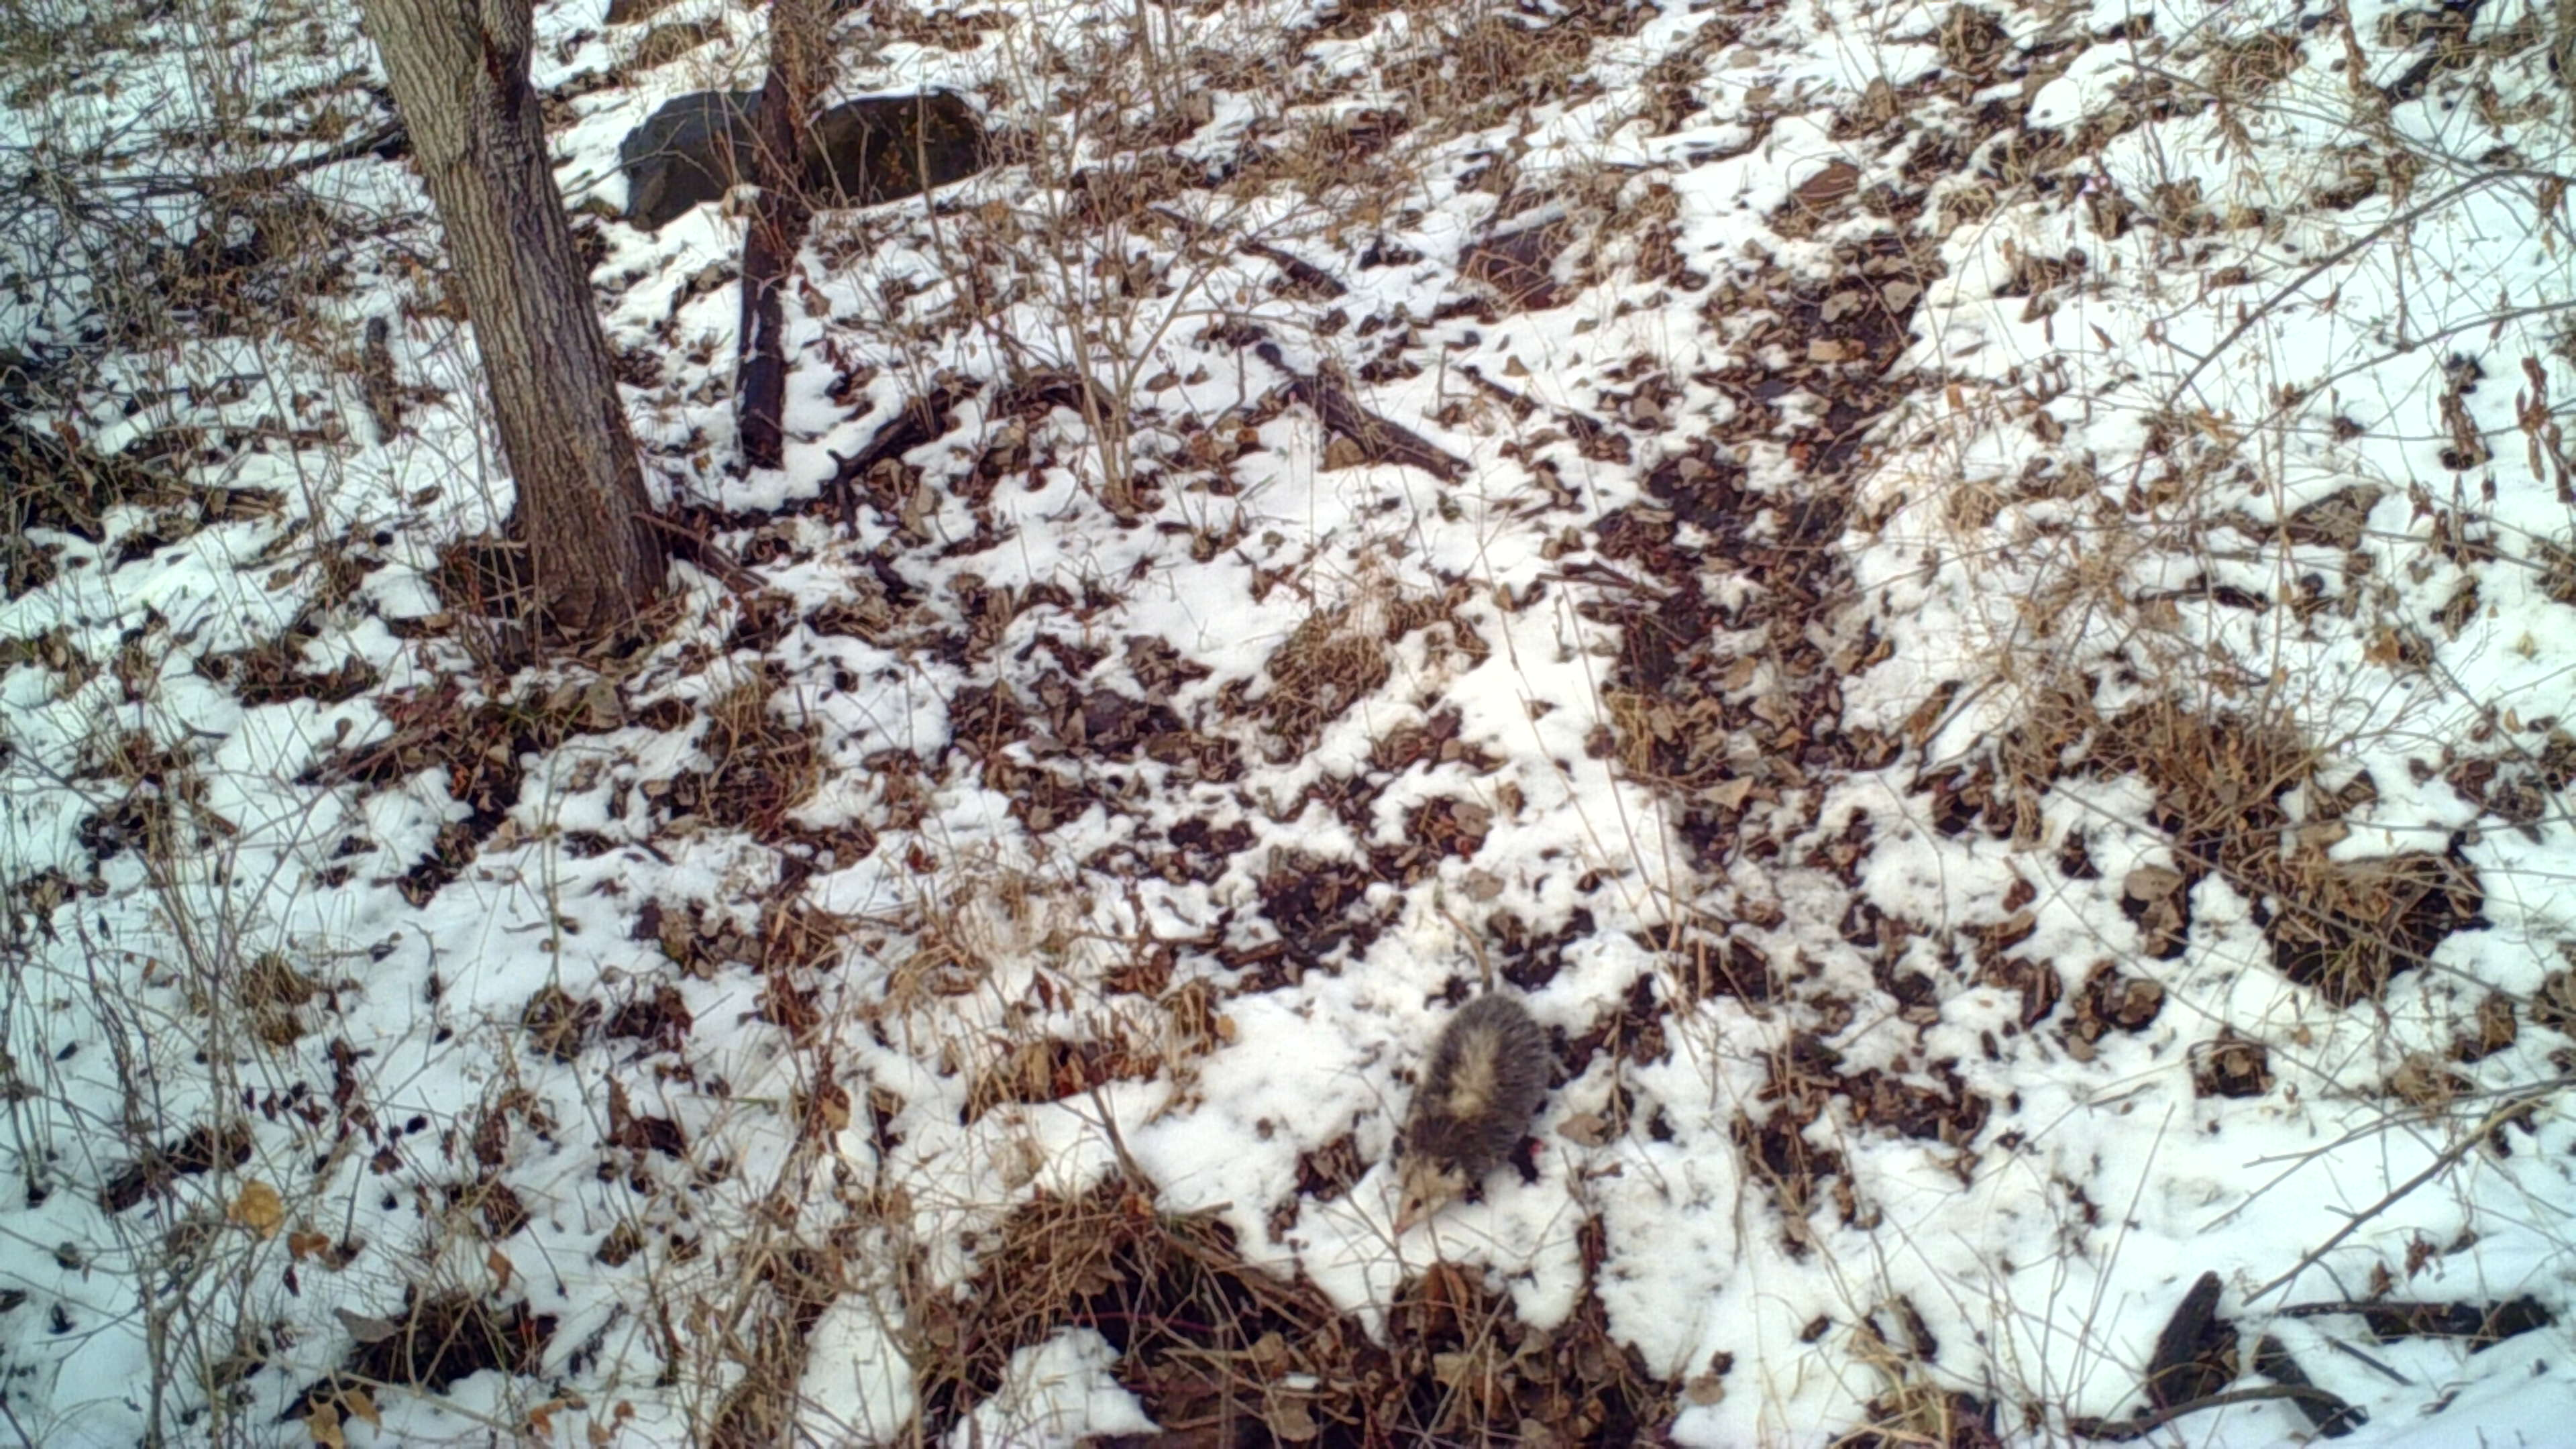Possum: (1391, 906, 1552, 1244)
